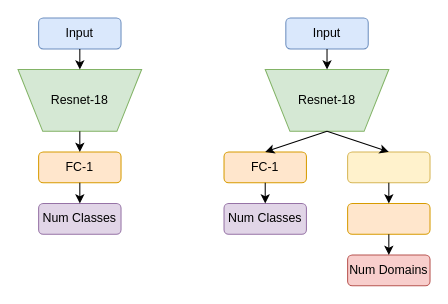
Some shapes in this 448 by 304 pixel diagram are drawn without their labels. The box of each missing label's shape, as (x1, y1, x2, y2) in pixels:
FC-2: (347, 202, 430, 234)
GRL: (347, 151, 430, 183)
